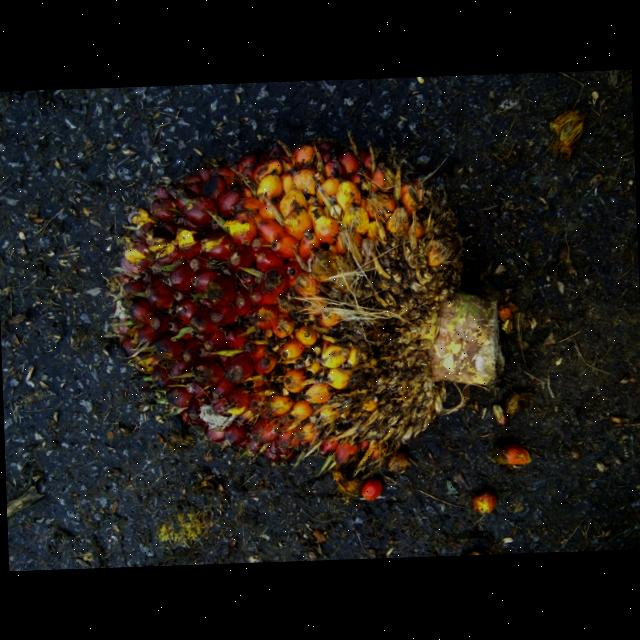Ripe: (109, 143, 507, 469)
